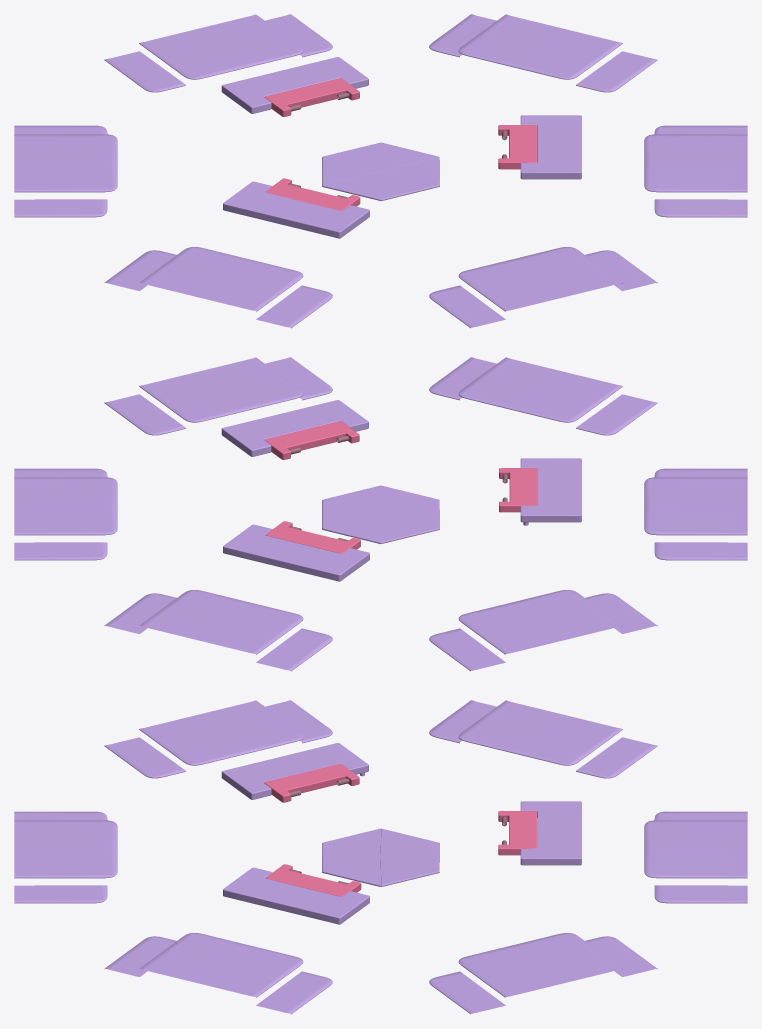
The model's file is HoopsObjectPlatform.fbx.
3 renders of one model, top to bottom at view 1: azimuth 30°, elevation 25°; view 2: azimuth 150°, elevation 25°; view 3: azimuth 270°, elevation 25°, orthographic.
Visible parts, largest first — view 1: Combined_Mesh__root__scene__7, Combined_Mesh__root__scene__10, Combined_Mesh__root__scene__18, Combined_Mesh__root__scene__12, Combined_Mesh__root__scene__14, Combined_Mesh__root__scene__16, Combined_Mesh__root__scene__2, Combined_Mesh__root__scene__2_49, Combined_Mesh__root__scene__2_47, Combined_Mesh__root__scene__2_45, Combined_Mesh__root__scene__4_86, Combined_Mesh__root__scene__4_89 (+1 smaller); view 2: Combined_Mesh__root__scene__16, Combined_Mesh__root__scene__18, Combined_Mesh__root__scene__14, Combined_Mesh__root__scene__10, Combined_Mesh__root__scene__7, Combined_Mesh__root__scene__12, Combined_Mesh__root__scene__2, Combined_Mesh__root__scene__2_47, Combined_Mesh__root__scene__2_45, Combined_Mesh__root__scene__2_49, Combined_Mesh__root__scene__4_89, Combined_Mesh__root__scene__4_83 (+1 smaller); view 3: Combined_Mesh__root__scene__12, Combined_Mesh__root__scene__14, Combined_Mesh__root__scene__7, Combined_Mesh__root__scene__16, Combined_Mesh__root__scene__10, Combined_Mesh__root__scene__18, Combined_Mesh__root__scene__2, Combined_Mesh__root__scene__2_45, Combined_Mesh__root__scene__2_47, Combined_Mesh__root__scene__2_49, Combined_Mesh__root__scene__4_83, Combined_Mesh__root__scene__4_86 (+1 smaller).
Part boxes in pixels (x1,y1,x2,y2): Combined_Mesh__root__scene__7: (429, 14, 657, 92); Combined_Mesh__root__scene__10: (104, 14, 332, 92); Combined_Mesh__root__scene__18: (429, 247, 657, 328); Combined_Mesh__root__scene__12: (104, 247, 332, 328); Combined_Mesh__root__scene__14: (14, 125, 117, 217); Combined_Mesh__root__scene__16: (644, 125, 747, 217); Combined_Mesh__root__scene__2: (322, 142, 439, 200); Combined_Mesh__root__scene__2_49: (223, 181, 369, 238); Combined_Mesh__root__scene__2_47: (221, 57, 368, 113); Combined_Mesh__root__scene__2_45: (520, 115, 581, 179); Combined_Mesh__root__scene__4_86: (264, 78, 359, 116); Combined_Mesh__root__scene__4_89: (498, 125, 537, 169); Combined_Mesh__root__scene__16: (104, 357, 332, 435); Combined_Mesh__root__scene__18: (429, 357, 657, 435); Combined_Mesh__root__scene__14: (429, 590, 657, 671); Combined_Mesh__root__scene__10: (104, 590, 332, 671); Combined_Mesh__root__scene__7: (14, 468, 117, 560); Combined_Mesh__root__scene__12: (644, 468, 747, 560); Combined_Mesh__root__scene__2: (322, 485, 439, 543); Combined_Mesh__root__scene__2_47: (223, 524, 369, 581); Combined_Mesh__root__scene__2_45: (221, 400, 368, 456); Combined_Mesh__root__scene__2_49: (520, 458, 581, 522); Combined_Mesh__root__scene__4_89: (264, 421, 359, 459); Combined_Mesh__root__scene__4_83: (499, 468, 537, 512); Combined_Mesh__root__scene__12: (104, 700, 332, 778); Combined_Mesh__root__scene__14: (429, 700, 657, 778); Combined_Mesh__root__scene__7: (429, 933, 657, 1014); Combined_Mesh__root__scene__16: (104, 933, 332, 1014); Combined_Mesh__root__scene__10: (644, 811, 747, 903); Combined_Mesh__root__scene__18: (14, 811, 117, 903); Combined_Mesh__root__scene__2: (322, 828, 439, 886); Combined_Mesh__root__scene__2_45: (223, 867, 369, 924); Combined_Mesh__root__scene__2_47: (520, 801, 581, 865); Combined_Mesh__root__scene__2_49: (221, 743, 368, 799); Combined_Mesh__root__scene__4_83: (264, 764, 359, 802); Combined_Mesh__root__scene__4_86: (498, 811, 536, 855).
Size of the model in its own units: 280 by 11.9 by 277.
